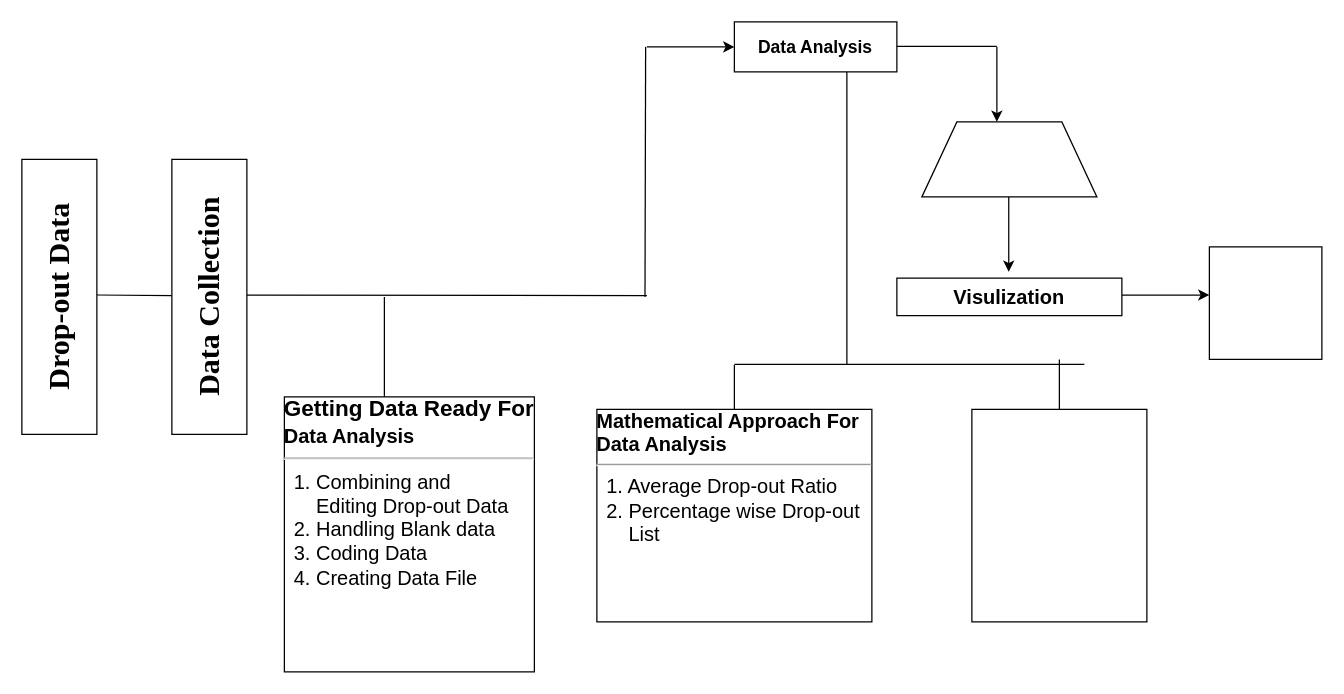
Image size: 1344x694. Some labels were removed from this diagram. Here are the shapes that lost their labels. From the top down, the centre of each, then its label:
the point at 1009,159: Interpretation of Result
the point at 1265,302: Decision Making
the point at 1059,515: Goodness Of Data 1. Reliability Of Drop-out Data 2.Validity of Drop-out Data
